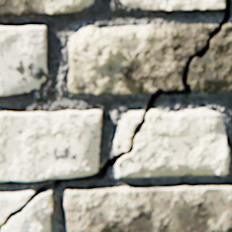brick: (65, 185, 231, 231), (0, 109, 102, 180), (0, 25, 47, 95), (0, 0, 94, 14), (121, 0, 224, 9)
broken_brick: (67, 23, 218, 93), (117, 107, 229, 176), (188, 23, 231, 91), (2, 189, 53, 231), (115, 109, 144, 153), (0, 189, 35, 222)
crack: (0, 0, 230, 231)
